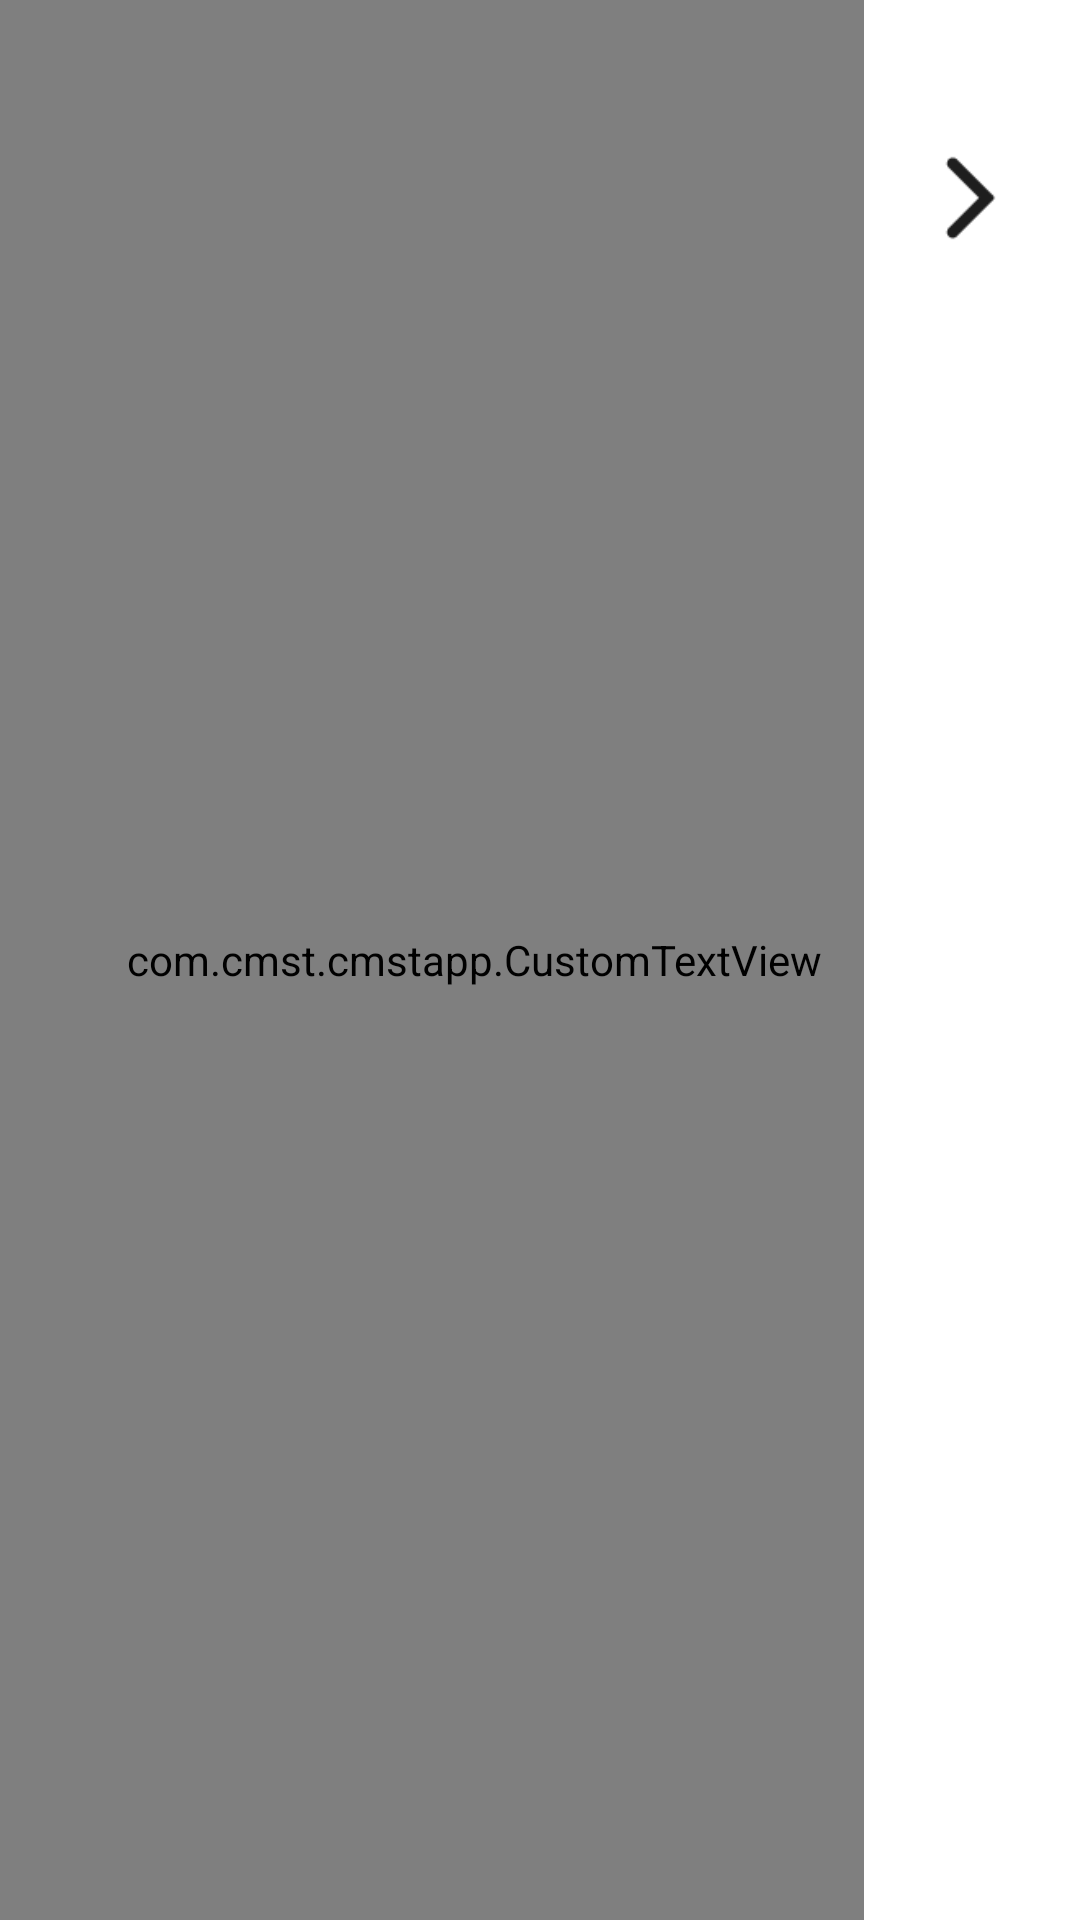

Icons on this 1080px x 1920px Android screen, each with the point to tap as (x=x, y=y):
bonjourarrow: (x=970, y=198)
